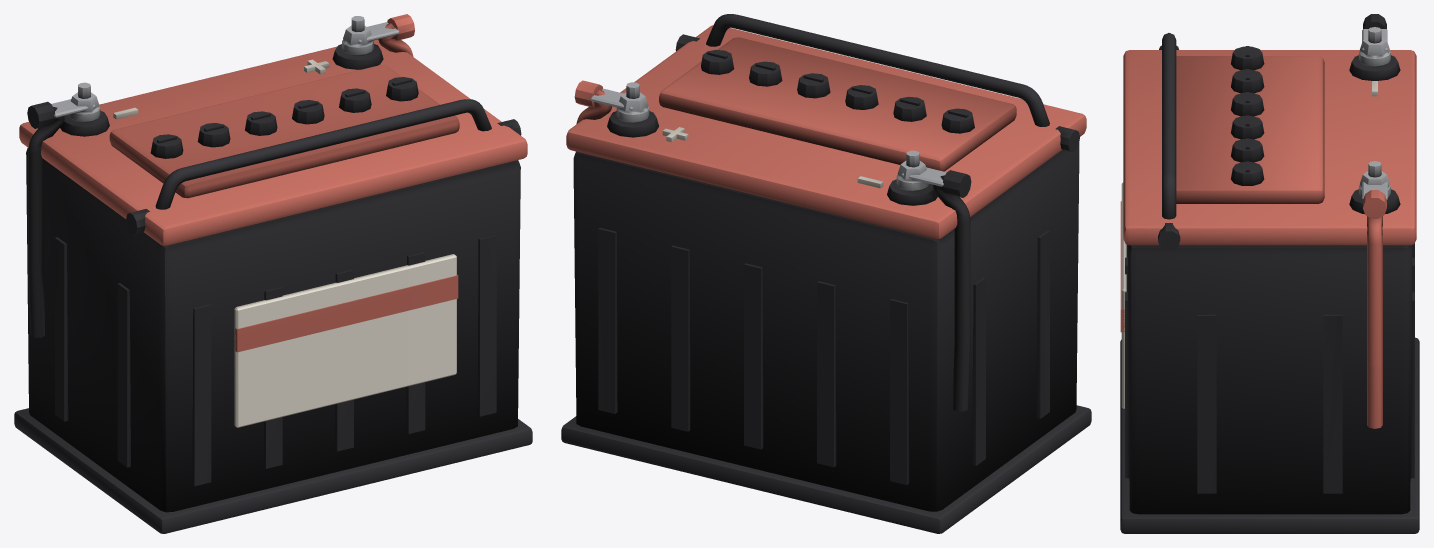
The model's file is bat_truck.glb.
The picture shows the model from 3 angles, left to right: view 1: azimuth 30°, elevation 25°; view 2: azimuth 150°, elevation 25°; view 3: azimuth 270°, elevation 25°; orthographic projection. The views are drawn at different scales.
Visible parts, largest first — view 1: PART; view 2: PART; view 3: PART.
Boxes of the visible parts, x1,y1,x2,y2 form: PART: (14,14,532,533); PART: (561,14,1091,533); PART: (1120,14,1419,533).
Bounding box in the file's own units: 0.278 × 0.2395 × 0.187.
